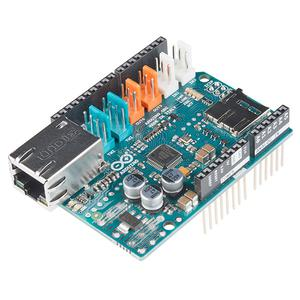duino: (5, 18, 300, 269)
